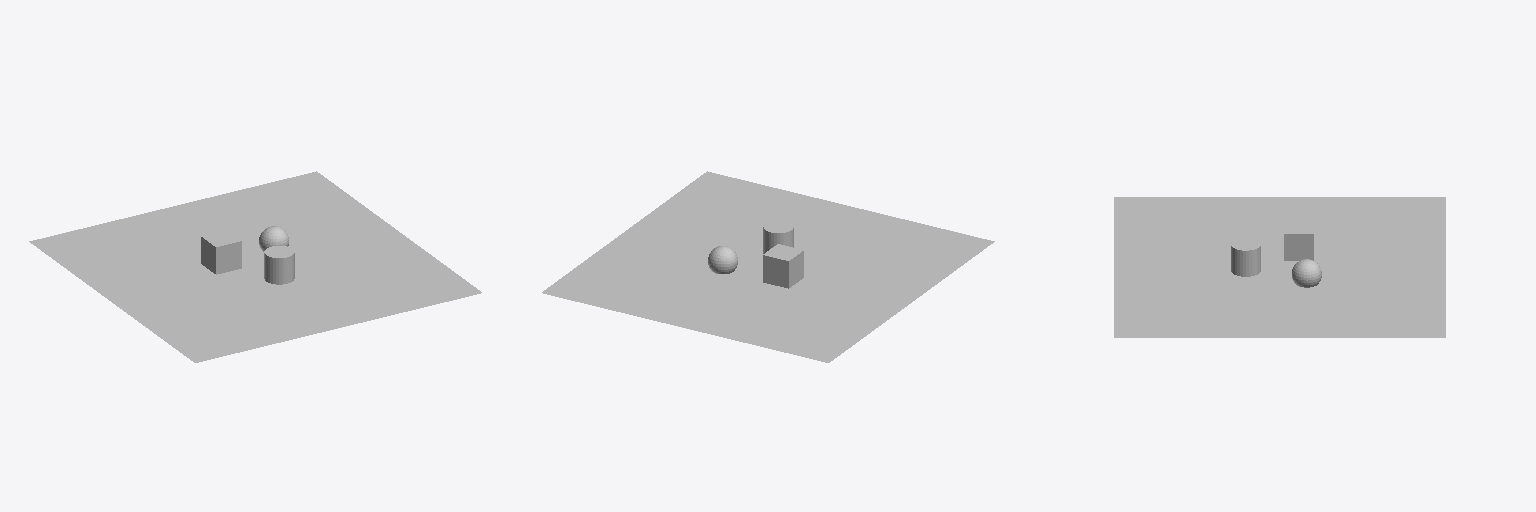
File: shadowmap.obj
3 renders of one model, left to right at view 1: azimuth 30°, elevation 25°; view 2: azimuth 150°, elevation 25°; view 3: azimuth 270°, elevation 25°, orthographic.
Visible parts, largest first — view 1: Plane, Cube_Cube.001, Cylinder_Cylinder.001, Sphere; view 2: Plane, Cube_Cube.001, Cylinder_Cylinder.001, Sphere; view 3: Plane, Cube_Cube.001, Cylinder_Cylinder.001, Sphere.
Part boxes in pixels (x1,y1,x2,y2): Plane: (29,171,481,362); Cube_Cube.001: (201,230,241,274); Cylinder_Cylinder.001: (264,246,294,284); Sphere: (259,226,288,251); Plane: (542,171,994,362); Cube_Cube.001: (763,244,803,288); Cylinder_Cylinder.001: (763,221,793,253); Sphere: (708,246,737,273); Plane: (1114,197,1445,337); Cube_Cube.001: (1284,221,1313,260); Cylinder_Cylinder.001: (1231,238,1260,276); Sphere: (1292,259,1321,287).
Bounding box in the file's own units: 21.94 × 2.4 × 21.94.